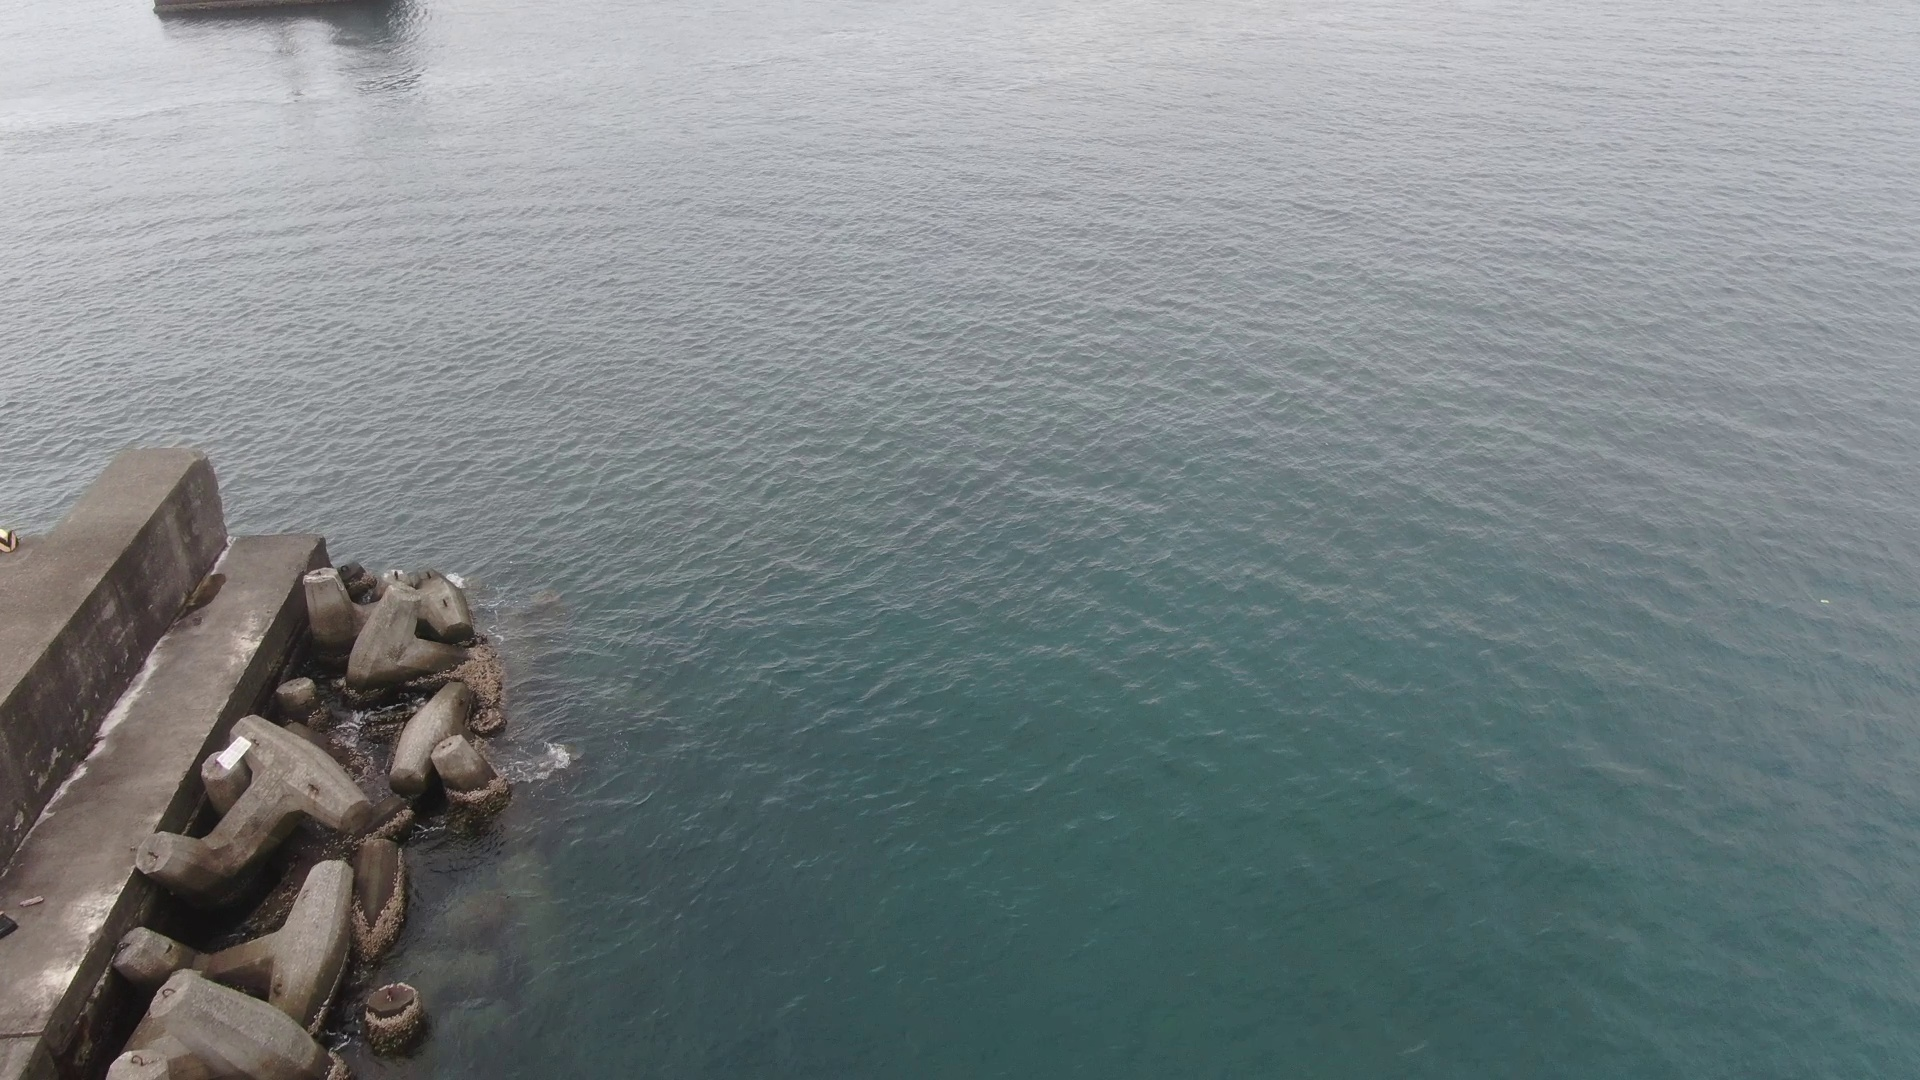garbage: (3, 886, 49, 947)
